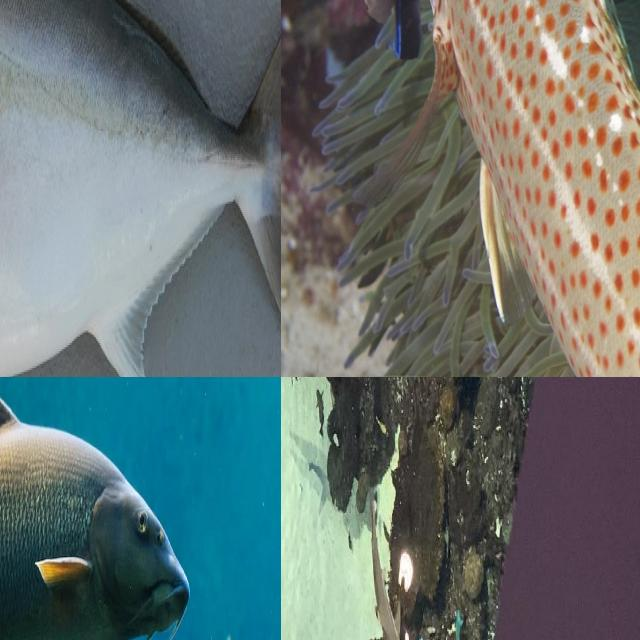fish: (305, 0, 640, 377), (0, 0, 281, 377), (0, 377, 281, 640)
